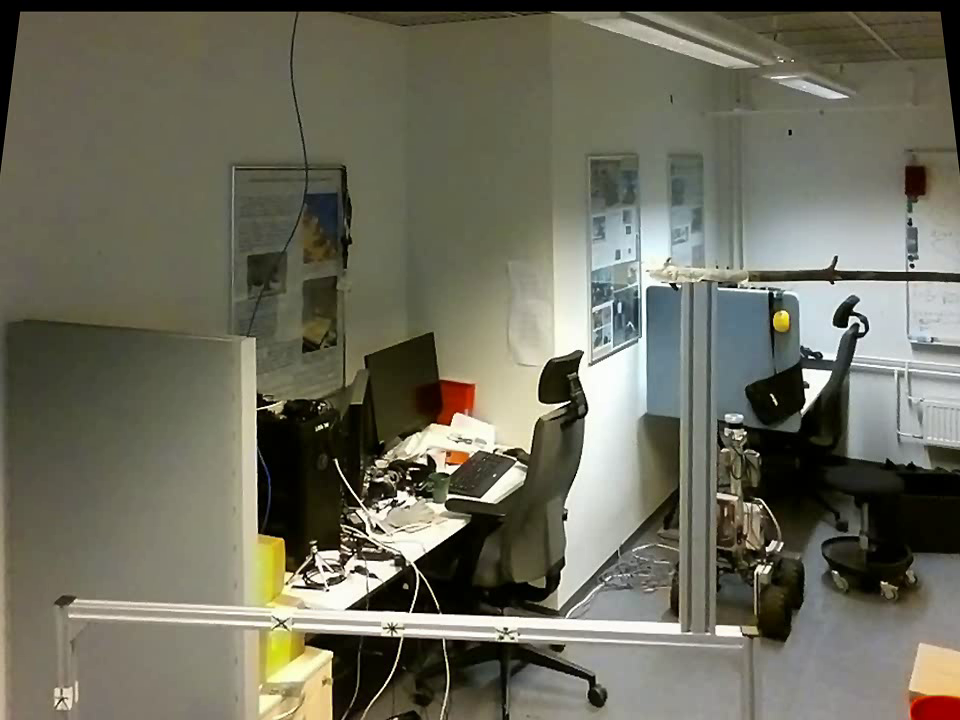aluminum_frame: (68, 587, 740, 636), (676, 282, 721, 638), (48, 589, 83, 719), (736, 621, 761, 717)
branch: (753, 250, 959, 288)
